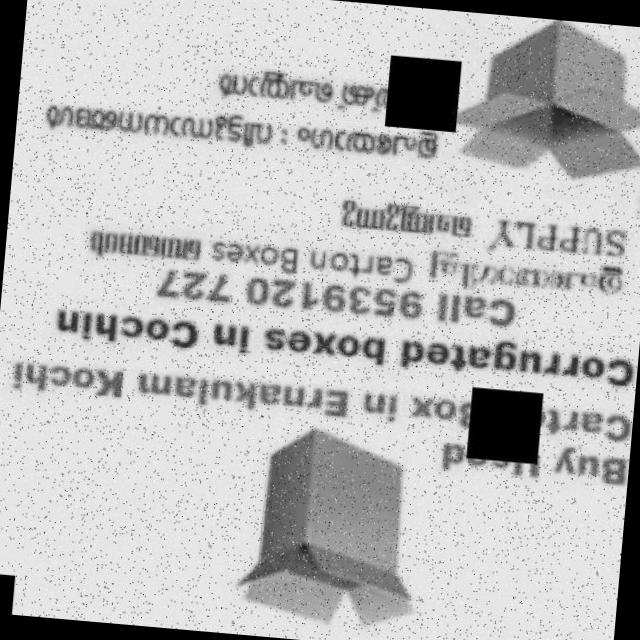box: (194, 411, 433, 631), (441, 12, 640, 191)
